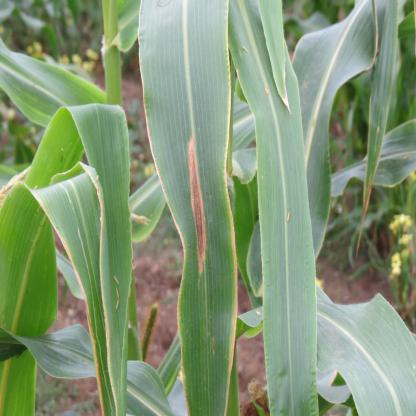corn leaf blight: (136, 1, 241, 415)
